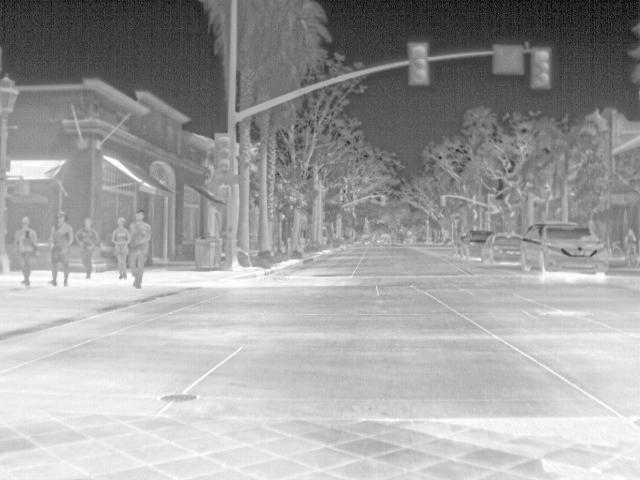car: (517, 222, 609, 274), (480, 234, 519, 267), (460, 231, 491, 257)
person: (124, 210, 152, 286), (49, 213, 76, 286), (16, 214, 40, 283), (110, 214, 132, 278), (79, 218, 101, 278), (622, 228, 639, 268)
